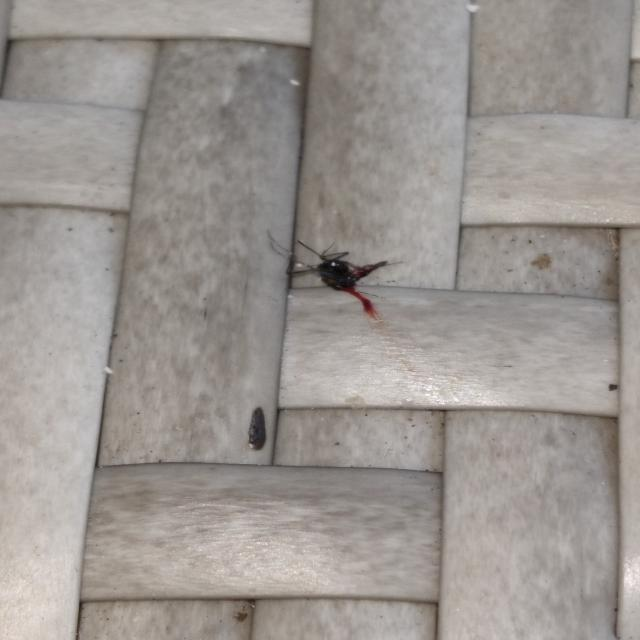albopictus: (262, 220, 412, 321)
